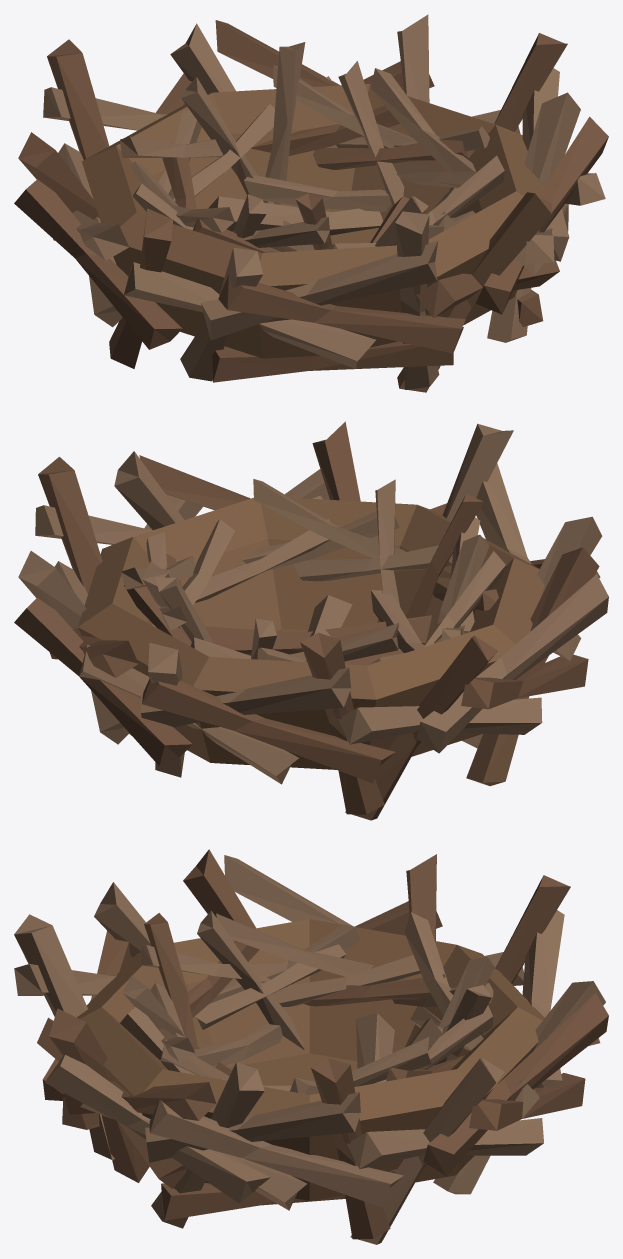
Rendered from bird_Nest_03.FBX.
3 renders of one model, top to bottom at view 1: azimuth 30°, elevation 25°; view 2: azimuth 150°, elevation 25°; view 3: azimuth 270°, elevation 25°, orthographic.
Parts seen in each view (by area): view 1: bird_Nest_03; view 2: bird_Nest_03; view 3: bird_Nest_03.
Boxes of the visible parts, bbox=[...] form: bird_Nest_03: bbox=[14, 14, 608, 392]; bird_Nest_03: bbox=[14, 421, 608, 820]; bird_Nest_03: bbox=[14, 849, 608, 1244].
Bounding box in the file's own units: 1.25 × 0.5206 × 1.23.
